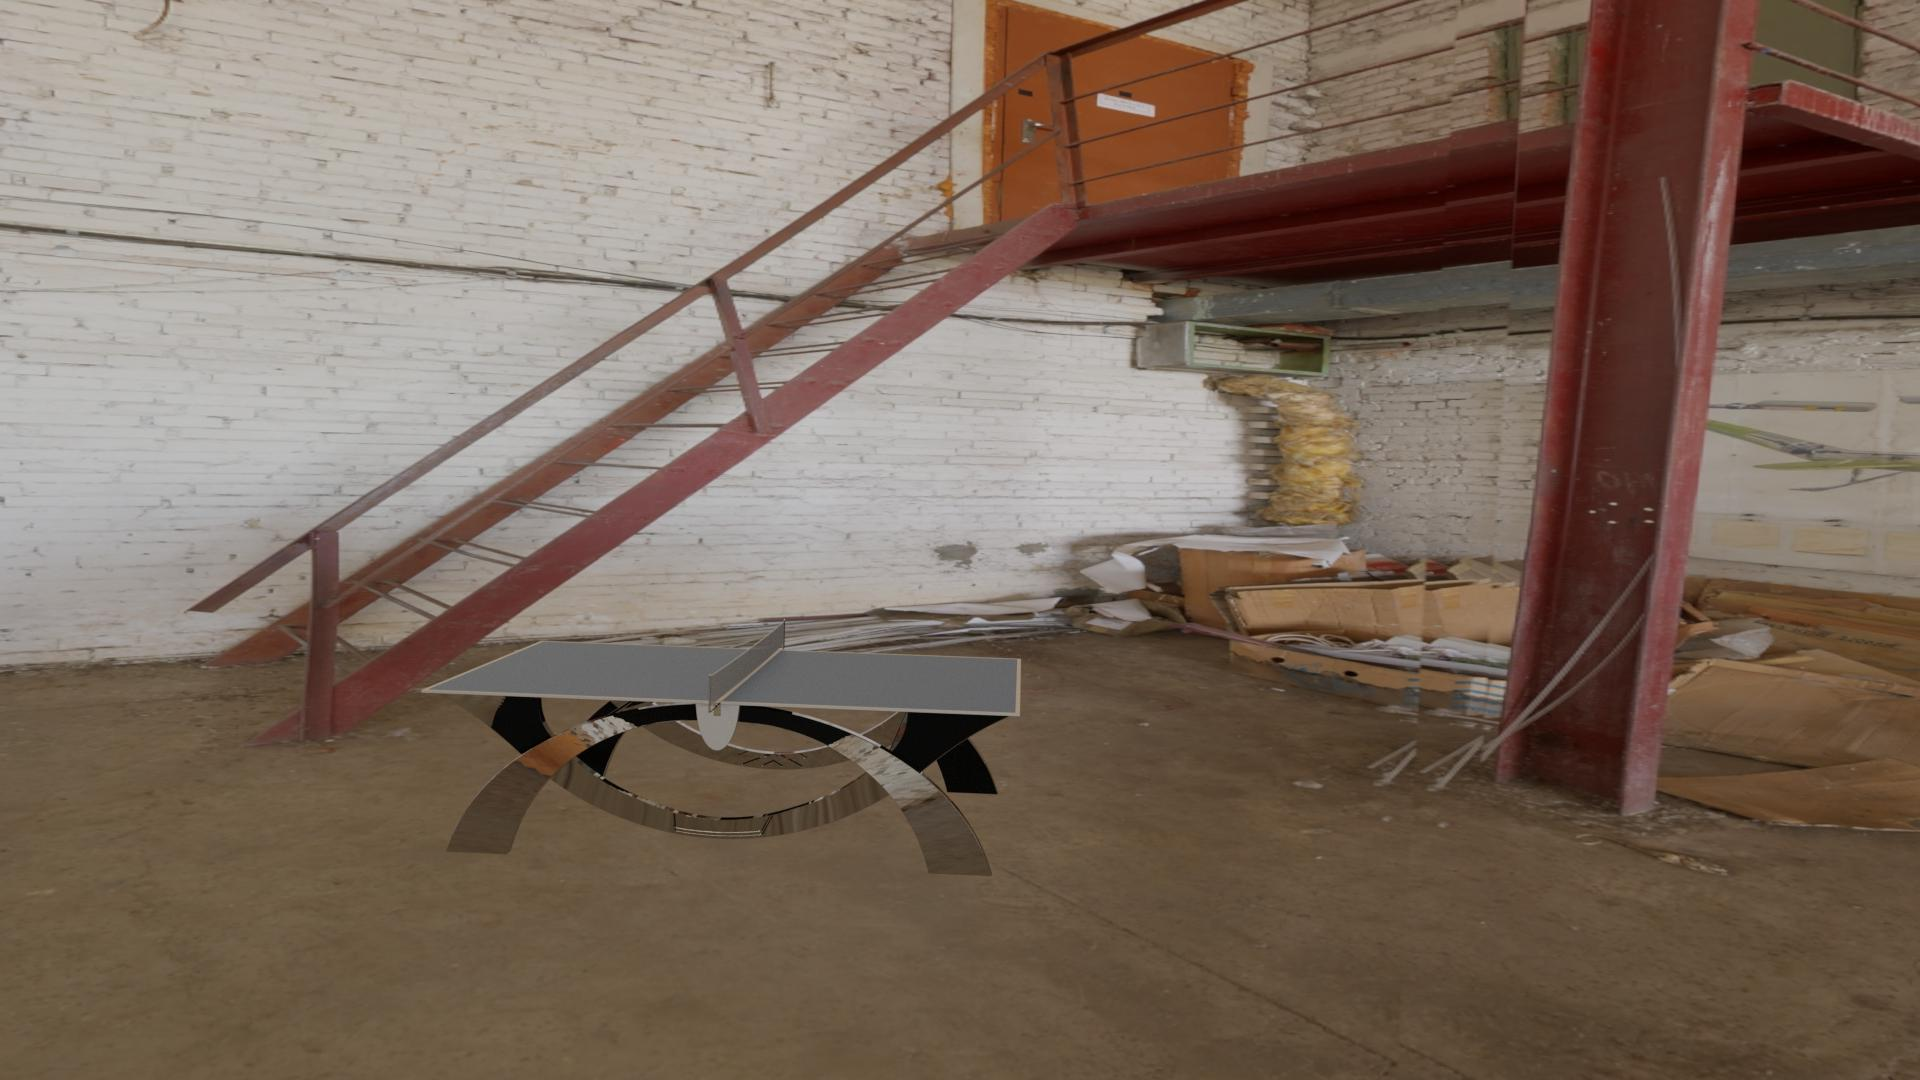table: (427, 641, 1017, 713)
